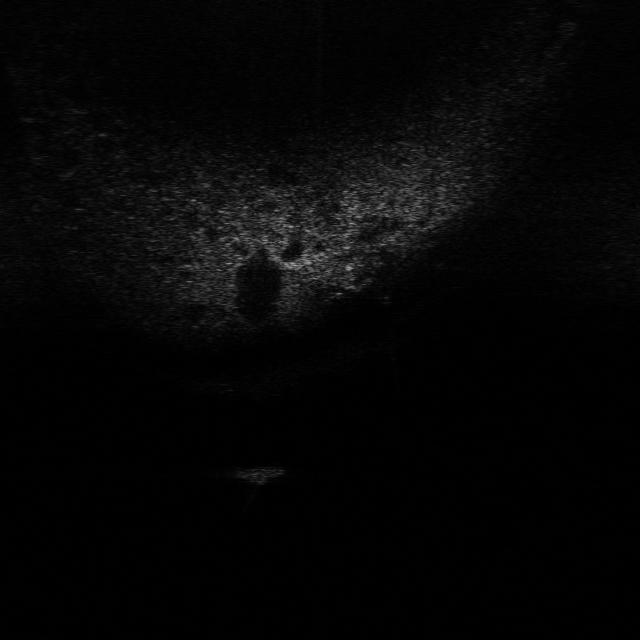ball: (361, 268, 407, 302)
cube: (222, 461, 290, 486)
